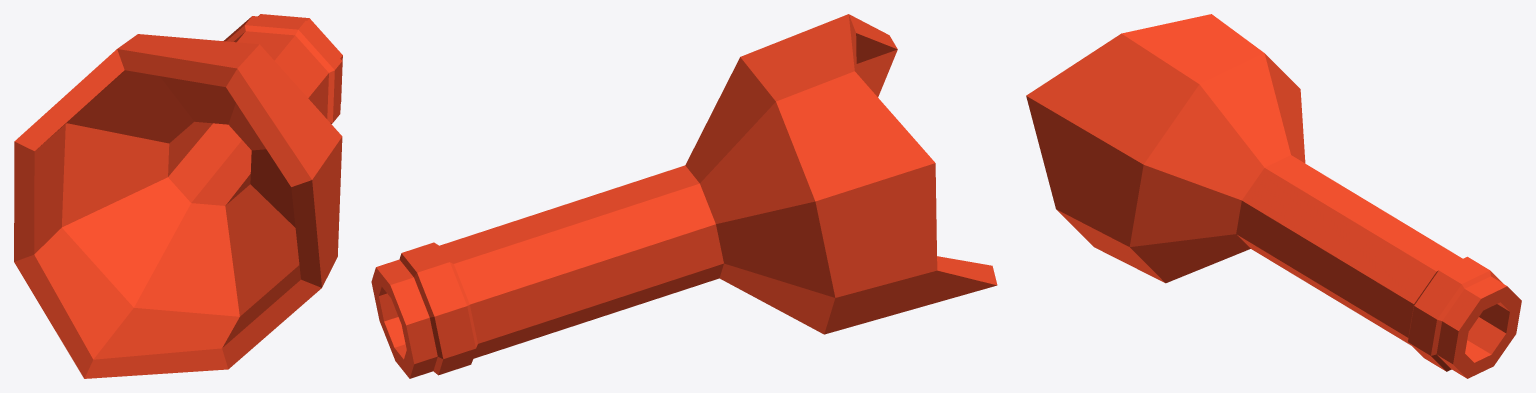
Rendered from SM_Vine_Broken_A_City.fbx.
3 renders of one model, left to right at view 1: azimuth 30°, elevation 25°; view 2: azimuth 150°, elevation 25°; view 3: azimuth 270°, elevation 25°, orthographic. The views are drawn at different scales.
Visible parts, largest first — view 1: SM_Vine_Broken_A_City; view 2: SM_Vine_Broken_A_City; view 3: SM_Vine_Broken_A_City.
Part boxes in pixels (x1,y1,x2,y2): SM_Vine_Broken_A_City: (14,14,342,378); SM_Vine_Broken_A_City: (371,14,997,378); SM_Vine_Broken_A_City: (1026,14,1521,378).
Size of the model in its own units: 0.1425 by 0.0841 by 0.161.
